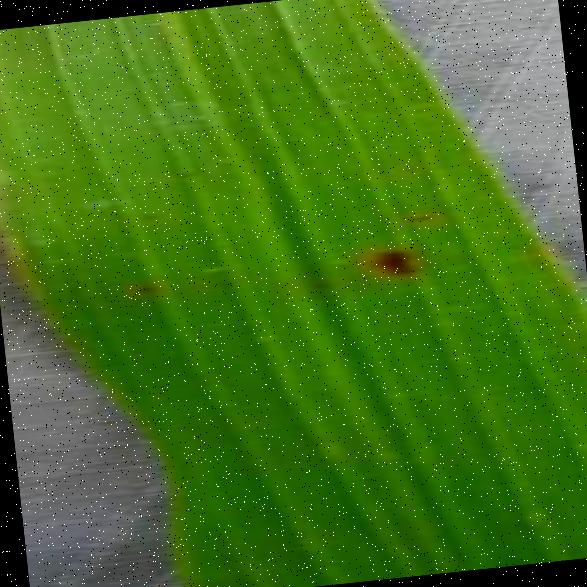Brown_Spot: (357, 237, 424, 286), (127, 274, 164, 299), (166, 160, 202, 185), (390, 152, 420, 180), (404, 206, 440, 229), (300, 272, 330, 294), (131, 204, 158, 226)
